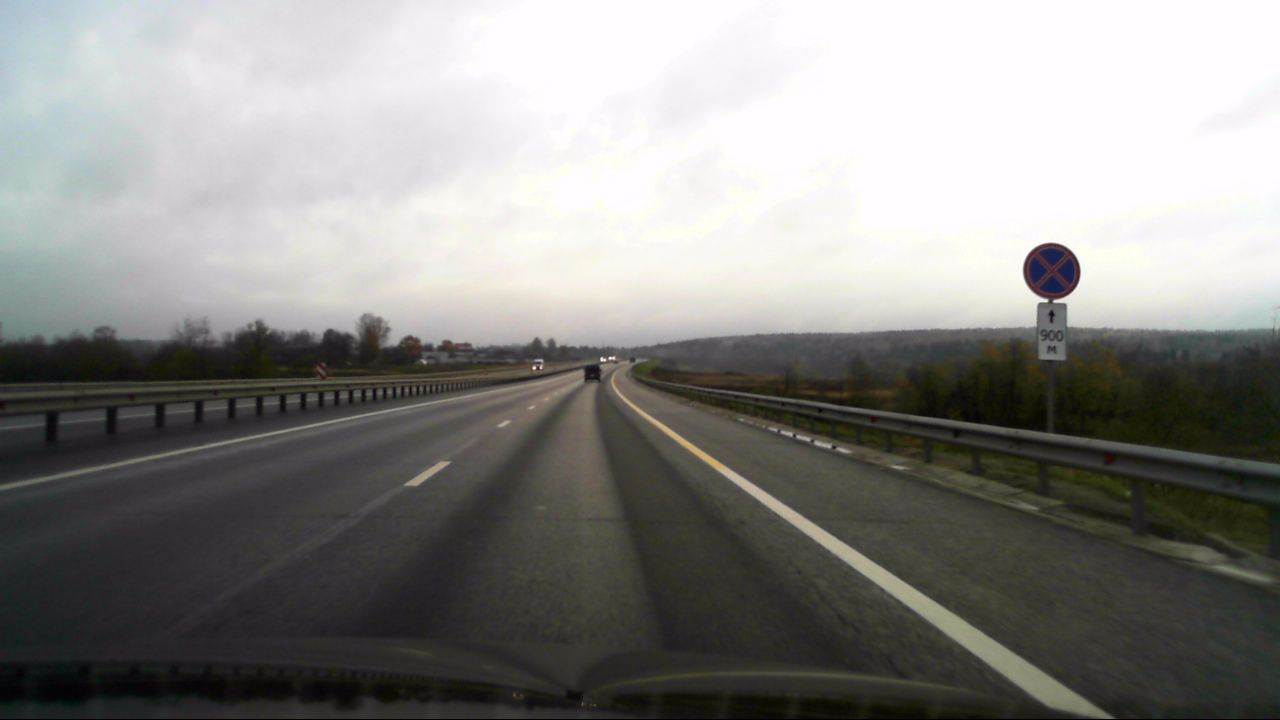No Parking: (1023, 243, 1081, 297)
